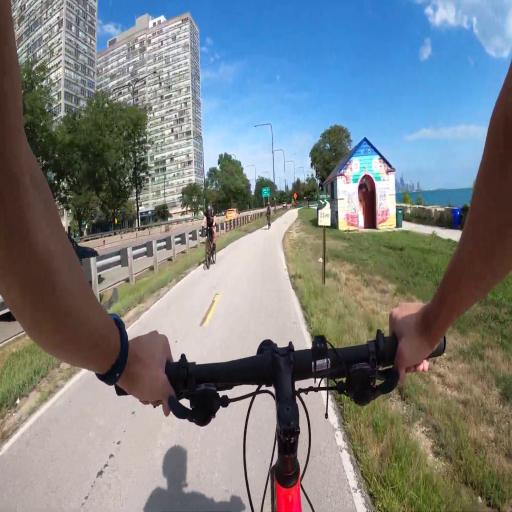Street_Light: (112, 66, 162, 230), (254, 118, 279, 198), (269, 145, 288, 206), (284, 156, 298, 200)
